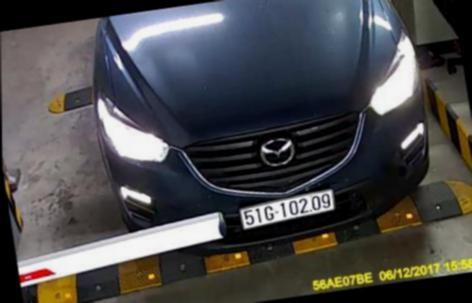License_Plate: (239, 190, 343, 240)
